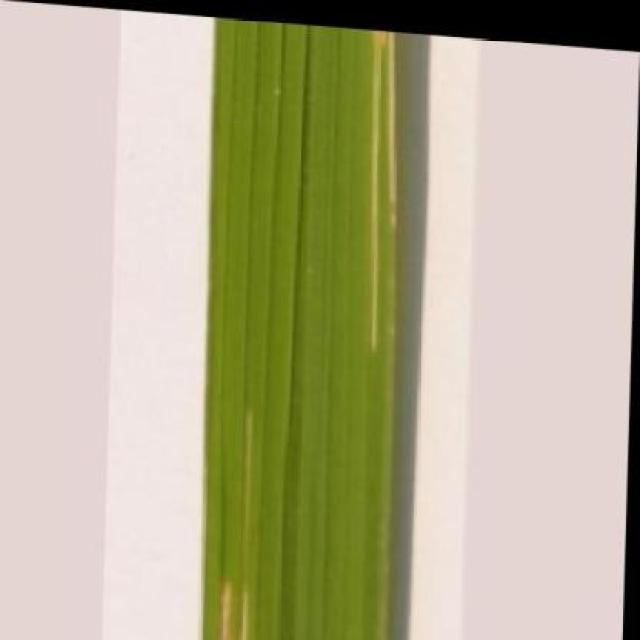Brown_Spot: (190, 12, 407, 640)
